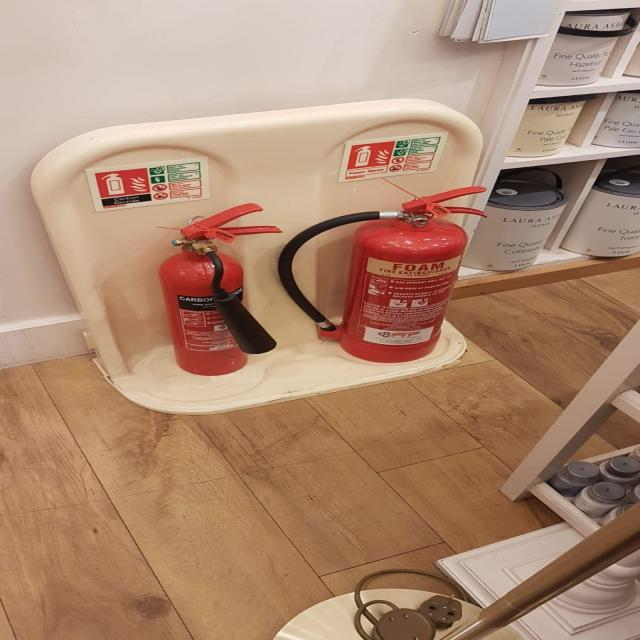fire_extinguisher: (272, 185, 496, 366), (151, 200, 291, 378)
